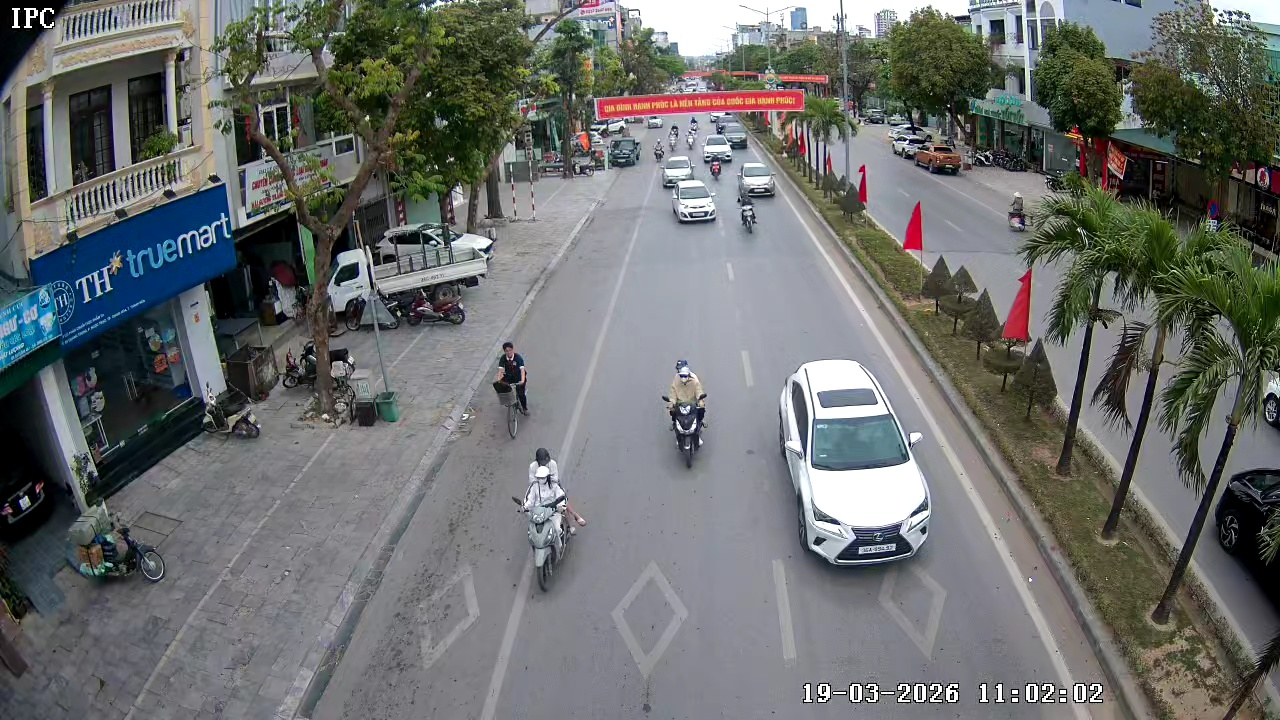bike: (491, 339, 534, 440)
car: (776, 358, 935, 566), (671, 178, 720, 225), (737, 160, 777, 201), (659, 154, 695, 189), (704, 136, 733, 175), (725, 128, 748, 150)
motorbike: (512, 447, 586, 594), (69, 500, 168, 586), (659, 358, 711, 470), (737, 189, 759, 235), (703, 140, 728, 180)
truck: (609, 135, 641, 167)
